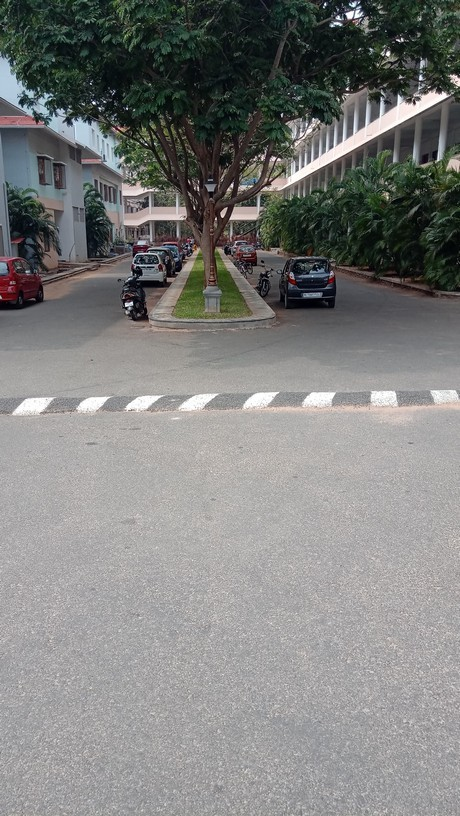bump: (1, 389, 460, 419)
